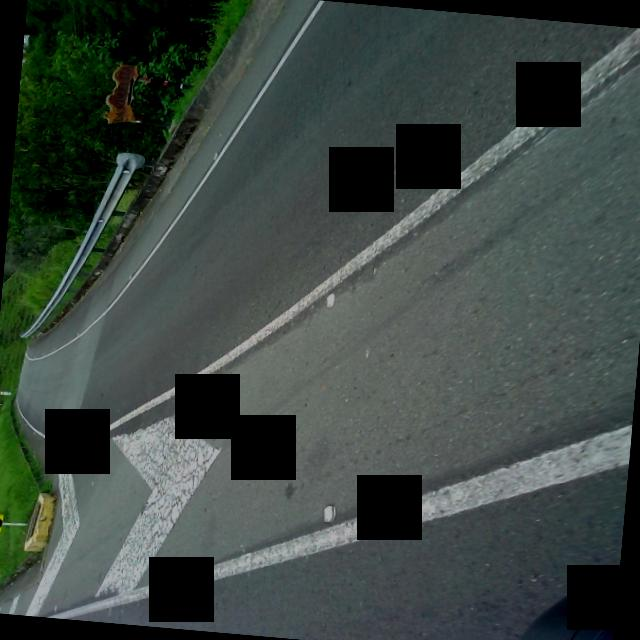DITCH: (0, 0, 640, 640), (13, 0, 640, 640), (120, 0, 640, 640)
